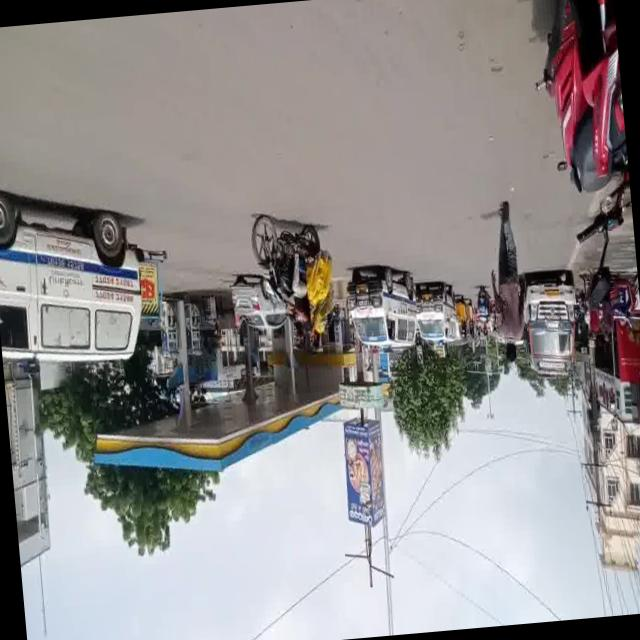ambulance: (0, 207, 153, 373), (516, 279, 585, 384), (347, 264, 424, 358)
